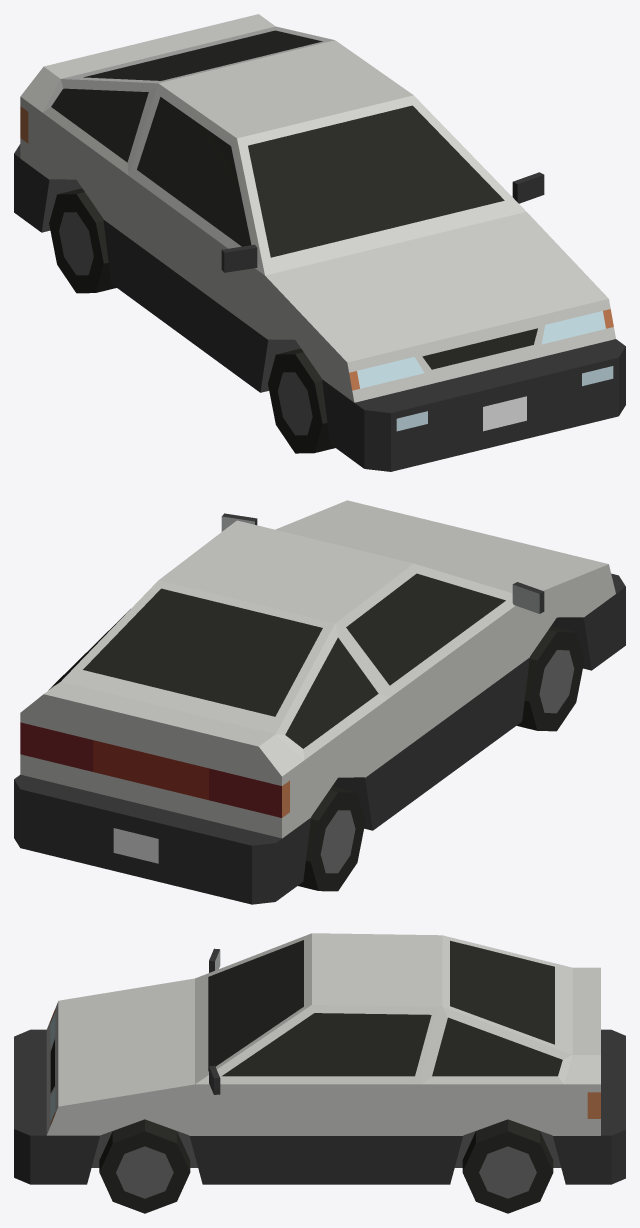
File: Veh_Coupe_01_White.glb
3 views of the same model, one above another, from view 1: azimuth 30°, elevation 25°; view 2: azimuth 150°, elevation 25°; view 3: azimuth 270°, elevation 25° (orthographic). The views are drawn at different scales.
Visible parts, largest first — view 1: Coupe_01_White, Wheel_FR, Wheel_RR; view 2: Coupe_01_White, Wheel_RR, Wheel_FR; view 3: Coupe_01_White, Wheel_RL, Wheel_FL.
Boxes of the visible parts, x1,y1,x2,y2 form: Coupe_01_White: (14,14,625,471); Wheel_FR: (268,348,334,453); Wheel_RR: (49,188,116,293); Coupe_01_White: (14,500,625,904); Wheel_RR: (298,786,365,891); Wheel_FR: (516,626,584,731); Coupe_01_White: (14,933,625,1184); Wheel_RL: (462,1119,553,1213); Wheel_FL: (99,1119,190,1213).
Bounding box in the file's own units: 1.18 × 0.8117 × 2.35.
1 material, 1 textured.
